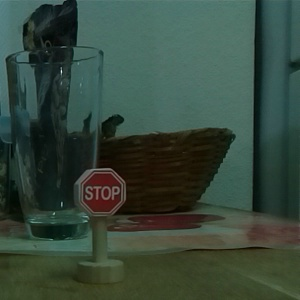stop sign: (69, 165, 128, 284)
